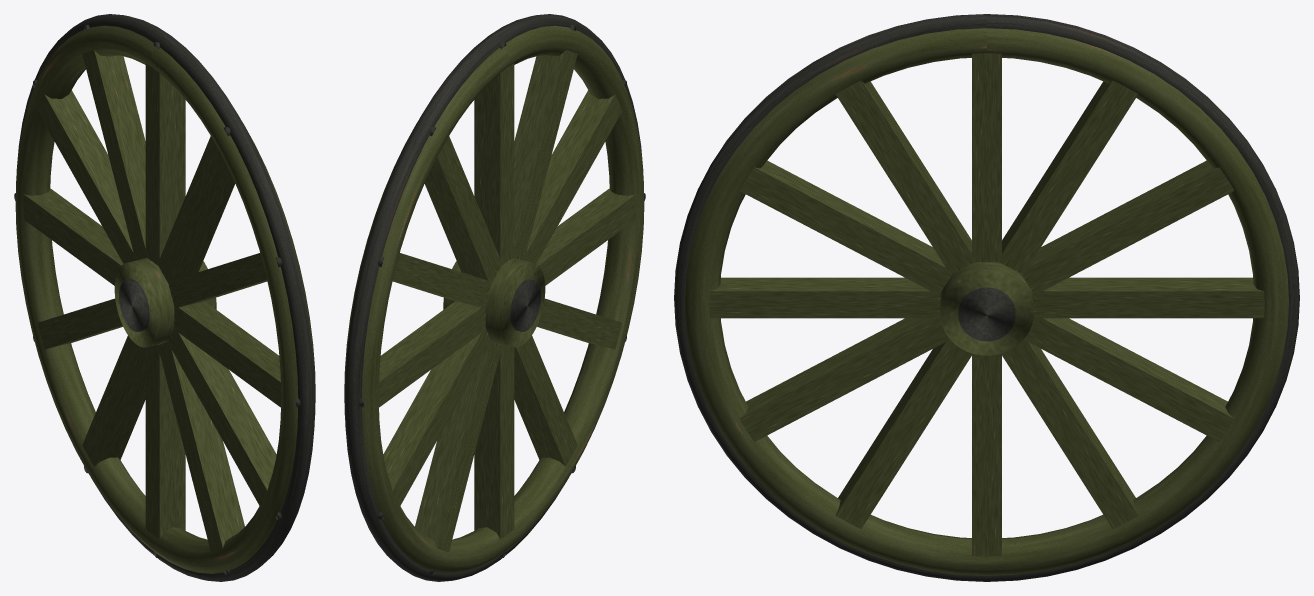
Rendered from wheel_left.obj.
3 views of the same model, side by side, from view 1: azimuth 30°, elevation 25°; view 2: azimuth 150°, elevation 25°; view 3: azimuth 270°, elevation 25° (orthographic). The views are drawn at different scales.
Parts seen in each view (by area): view 1: Wooden_felloe_wheel_left, Iron_tyre_wheel_left, Spoke_(-1,_5), Spoke_(-1,_11), Spoke_(-1,_0), Spoke_(-1,_4), Spoke_(-1,_6), Spoke_(-1,_10), Spoke_(-1,_1), Spoke_(-1,_3), Spoke_(-1,_7), Spoke_(-1,_9) (+4 smaller); view 2: Wooden_felloe_wheel_left, Iron_tyre_wheel_left, Spoke_(-1,_7), Spoke_(-1,_1), Spoke_(-1,_0), Spoke_(-1,_8), Spoke_(-1,_6), Spoke_(-1,_2), Spoke_(-1,_11), Spoke_(-1,_9), Spoke_(-1,_5), Spoke_(-1,_3) (+4 smaller); view 3: Wooden_felloe_wheel_left, Iron_tyre_wheel_left, Spoke_(-1,_3), Spoke_(-1,_9), Spoke_(-1,_2), Spoke_(-1,_10), Spoke_(-1,_4), Spoke_(-1,_8), Spoke_(-1,_1), Spoke_(-1,_11), Spoke_(-1,_5), Spoke_(-1,_7) (+4 smaller).
Part boxes in pixels (left/top/right/bottom): Wooden_felloe_wheel_left: left=15, top=25, right=315, bottom=573; Iron_tyre_wheel_left: left=16, top=14, right=315, bottom=581; Spoke_(-1,_5): left=158, top=341, right=244, bottom=551; Spoke_(-1,_11): left=82, top=50, right=147, bottom=260; Spoke_(-1,_0): left=145, top=63, right=185, bottom=265; Spoke_(-1,_4): left=168, top=326, right=276, bottom=507; Spoke_(-1,_6): left=145, top=344, right=185, bottom=539; Spoke_(-1,_10): left=37, top=90, right=135, bottom=263; Spoke_(-1,_1): left=158, top=136, right=235, bottom=285; Spoke_(-1,_3): left=174, top=301, right=281, bottom=407; Spoke_(-1,_7): left=82, top=335, right=145, bottom=466; Spoke_(-1,_9): left=23, top=188, right=123, bottom=285; Wooden_felloe_wheel_left: left=344, top=25, right=644, bottom=573; Iron_tyre_wheel_left: left=344, top=14, right=643, bottom=581; Spoke_(-1,_7): left=415, top=341, right=501, bottom=551; Spoke_(-1,_1): left=512, top=50, right=577, bottom=260; Spoke_(-1,_0): left=474, top=63, right=514, bottom=266; Spoke_(-1,_8): left=383, top=328, right=491, bottom=507; Spoke_(-1,_6): left=474, top=344, right=514, bottom=539; Spoke_(-1,_2): left=524, top=90, right=622, bottom=263; Spoke_(-1,_11): left=424, top=136, right=501, bottom=285; Spoke_(-1,_9): left=378, top=301, right=485, bottom=407; Spoke_(-1,_5): left=514, top=335, right=577, bottom=466; Spoke_(-1,_3): left=536, top=188, right=636, bottom=285; Wooden_felloe_wheel_left: left=685, top=28, right=1288, bottom=575; Iron_tyre_wheel_left: left=674, top=14, right=1299, bottom=581; Spoke_(-1,_3): left=709, top=277, right=940, bottom=318; Spoke_(-1,_9): left=1033, top=277, right=1264, bottom=318; Spoke_(-1,_2): left=739, top=160, right=952, bottom=292; Spoke_(-1,_10): left=1021, top=160, right=1234, bottom=292; Spoke_(-1,_4): left=739, top=314, right=949, bottom=441; Spoke_(-1,_8): left=1024, top=314, right=1234, bottom=441; Spoke_(-1,_1): left=835, top=80, right=976, bottom=274; Spoke_(-1,_11): left=997, top=80, right=1138, bottom=274; Spoke_(-1,_5): left=835, top=339, right=971, bottom=528; Spoke_(-1,_7): left=1002, top=339, right=1138, bottom=528.
Size of the model in its own units: 0.2 by 1.5 by 1.5.
